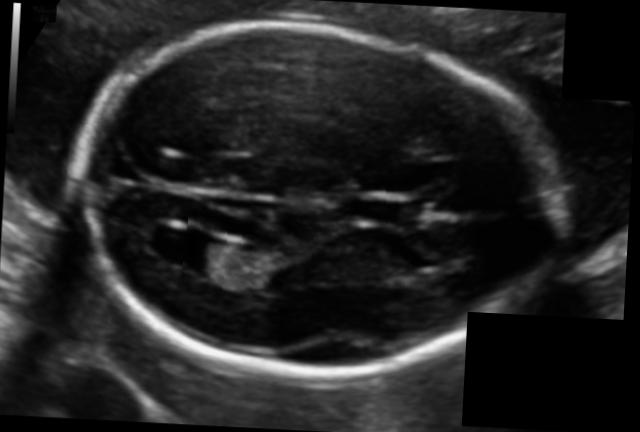CHOROID_PLEXUS: (180, 216, 312, 300)
CSP: (382, 172, 494, 277)
MIDLINE_FALX: (65, 124, 535, 246)
